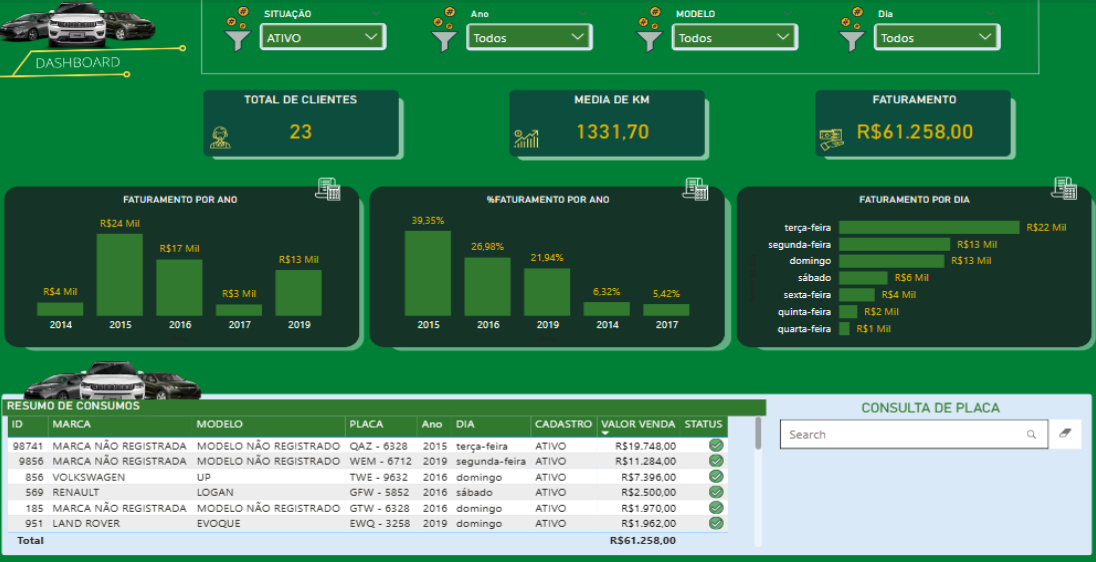

The page's visual inventory and layout, read from the dashboard file:
{"tool":"powerbi","page":{"name":"LOCAÇÃO DE VEÍCULOS","canvas":[1280,720],"ordinal":1},"visuals":[{"type":"columnChart","title":"FATURAMENTO POR ANO","fields":{"Category":["tb_km.DATA.Variation.Hierarquia de datas.Ano"],"Y":["Sum(tb_km.TOTAL VENDA)"]},"box":[12.9,248,398.4,195.3],"z":0},{"type":"columnChart","title":"%FATURAMENTO POR ANO","fields":{"Category":["tb_km.DATA.Variation.Hierarquia de datas.Ano","tb_km.DATA.Variation.Hierarquia de datas.Mês"],"Y":["Sum(tb_km.TOTAL VENDA)"]},"box":[440.8,248,398.4,195.3],"z":1000},{"type":"barChart","title":"FATURAMENTO POR DIA","fields":{"Y":["Divide(Sum(tb_km.TOTAL VENDA), ScopedEval(Sum(tb_km.TOTAL VENDA), []))"],"Category":["tb_km.Nome do Dia"]},"box":[867.5,248,398.4,195.3],"z":2000},{"type":"card","title":"TOTAL DE CLIENTES","fields":{"Values":["Count(tb_km.ID_CLIENTE)"]},"box":[239,119.5,226.2,79.7],"z":3000},{"type":"card","title":"MEDIA DE KM","fields":{"Values":["Avg(tb_km.KILOMETRO_PERCORRIDO)"]},"box":[601.4,119.5,226.2,78.4],"z":4000},{"type":"card","title":"FATURAMENTO","fields":{"Values":["Sum(tb_km.TOTAL VENDA)"]},"box":[953.6,119.5,226.2,78.4],"z":5000},{"type":"slicer","fields":{"Values":["tb_km.SITUAÇÃO CADASTRAL"]},"box":[296.9,6.4,160.6,86.1],"z":6000},{"type":"slicer","fields":{"Values":["tb_km.DATA.Variation.Hierarquia de datas.Ano"]},"box":[537.2,6.4,160.6,86.1],"z":7000},{"type":"slicer","fields":{"Values":["tb_km.MODELO"]},"box":[776.2,6.4,160.6,86.1],"z":8000},{"type":"slicer","fields":{"Values":["tb_km.DATA.Variation.Hierarquia de datas.Dia"]},"box":[1011.4,6.4,160.6,86.1],"z":9000},{"type":"tableEx","title":"RESUMO DE CONSUMOS","fields":{"Values":["tb_km.ID_CLIENTE","tb_km.MARCA","tb_km.MODELO","tb_km.PLACA","tb_km.DATA.Variation.Hierarquia de datas.Ano","tb_km.Nome do Dia","tb_km.SITUAÇÃO CADASTRAL","Sum(tb_km.TOTAL VENDA)","tb_km.ICONE"]},"box":[5.1,511.5,889.3,194.1],"z":10000},{"type":"textFilter25A4896A83E0487089E2B90C9AE57C8A","fields":{"field":["tb_km.PLACA"]},"box":[904.7,512.8,361.1,111.8],"z":11000}]}

Visuals, with their boxes on the page's 1280x720 design canvas (x1, y1, x2, y2). These are canvas units, not pixel positions in the 1096x562 screenshot, which may show the page scaled, cropped or inside an application window:
"FATURAMENTO POR ANO" columnChart: l=13, t=248, r=411, b=443
"%FATURAMENTO POR ANO" columnChart: l=441, t=248, r=839, b=443
"FATURAMENTO POR DIA" barChart: l=868, t=248, r=1266, b=443
"TOTAL DE CLIENTES" card: l=239, t=120, r=465, b=199
"MEDIA DE KM" card: l=601, t=120, r=828, b=198
"FATURAMENTO" card: l=954, t=120, r=1180, b=198
slicer - tb_km.SITUAÇÃO CADASTRAL: l=297, t=6, r=458, b=92
slicer - tb_km.DATA.Variation.Hierarquia de datas.Ano: l=537, t=6, r=698, b=92
slicer - tb_km.MODELO: l=776, t=6, r=937, b=92
slicer - tb_km.DATA.Variation.Hierarquia de datas.Dia: l=1011, t=6, r=1172, b=92
"RESUMO DE CONSUMOS" tableEx: l=5, t=512, r=894, b=706
textFilter25A4896A83E0487089E2B90C9AE57C8A - tb_km.PLACA: l=905, t=513, r=1266, b=625
